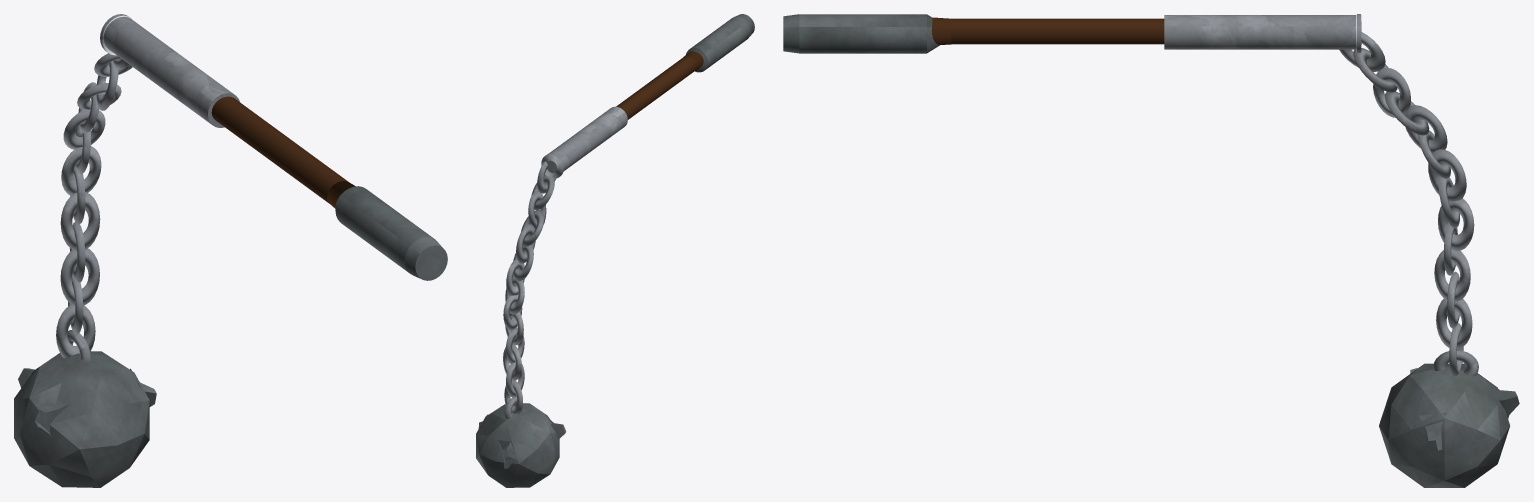
File: Flail2.obj
The picture shows the model from 3 angles, left to right: view 1: azimuth 30°, elevation 25°; view 2: azimuth 150°, elevation 25°; view 3: azimuth 270°, elevation 25°; orthographic projection. The views are drawn at different scales.
Visible parts, largest first — view 1: icosphere, torus%, attachment_silencer, attachment_barrelThin, attachment_barrelEnd, tree_branchLong; view 2: icosphere, torus%, attachment_silencer, attachment_barrelThin, attachment_barrelEnd, tree_branchLong; view 3: icosphere, torus%, attachment_barrelThin, attachment_barrelEnd, attachment_silencer, tree_branchLong.
Boxes of the visible parts, box(x1,y1,x2,y2) form: icosphere: box(14, 351, 149, 487); torus%: box(56, 53, 132, 361); attachment_silencer: box(100, 14, 447, 280); attachment_barrelThin: box(103, 16, 239, 127); attachment_barrelEnd: box(211, 96, 355, 208); tree_branchLong: box(18, 368, 156, 435); icosphere: box(476, 403, 559, 487); torus%: box(503, 161, 555, 418); attachment_silencer: box(541, 14, 754, 178); attachment_barrelThin: box(548, 106, 627, 170); attachment_barrelEnd: box(616, 51, 703, 119); tree_branchLong: box(478, 414, 566, 468); icosphere: box(1379, 363, 1509, 487); torus%: box(1339, 32, 1478, 376); attachment_barrelThin: box(1164, 15, 1356, 49); attachment_barrelEnd: box(931, 17, 1164, 44); attachment_silencer: box(783, 14, 1361, 53); tree_branchLong: box(1410, 368, 1519, 451).
Size of the model in its own units: 0.2625 by 0.9769 by 1.4.
5 materials, 3 textured.
